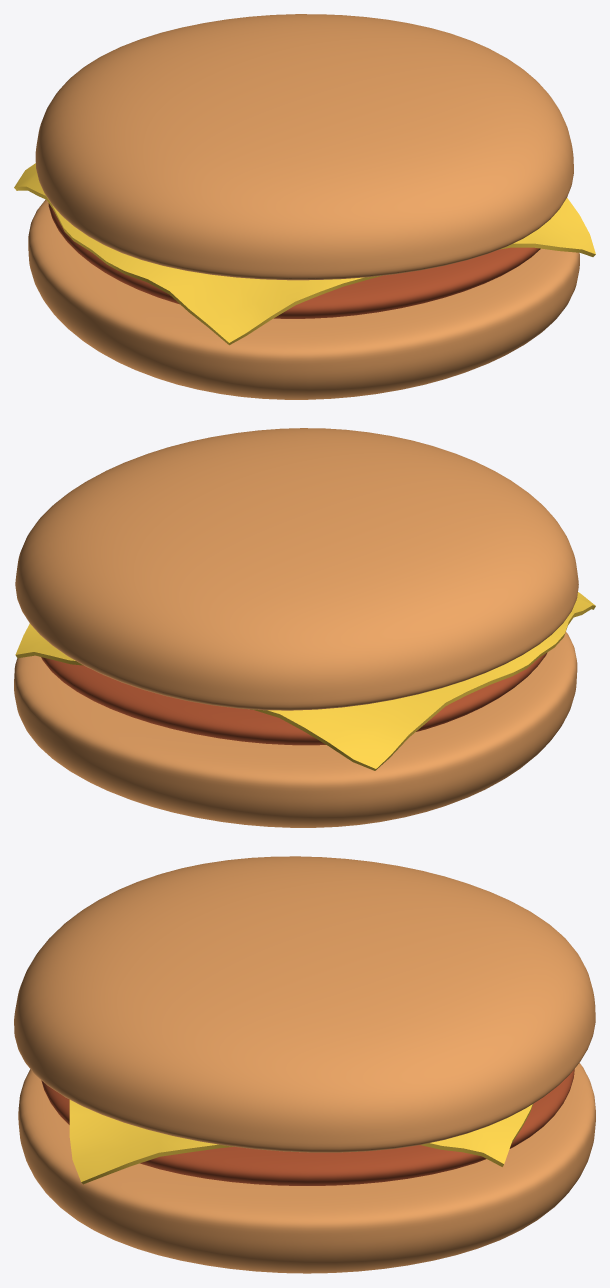
Rendered from hamburger.glb.
The picture shows the model from 3 angles, top to bottom: view 1: azimuth 30°, elevation 25°; view 2: azimuth 150°, elevation 25°; view 3: azimuth 270°, elevation 25°; orthographic projection. The views are drawn at different scales.
Visible parts, largest first — view 1: Cube.004, Cube, Plane, Cube.002; view 2: Cube.004, Cube, Plane, Cube.002; view 3: Cube.004, Cube, Cube.002, Plane.
Boxes of the visible parts, left/top/right/bottom form: Cube.004: left=35, top=14, right=573, bottom=280; Cube: left=28, top=199, right=579, bottom=399; Plane: left=14, top=163, right=595, bottom=345; Cube.002: left=48, top=203, right=540, bottom=318; Cube.004: left=15, top=428, right=578, bottom=710; Cube: left=14, top=632, right=577, bottom=827; Plane: left=15, top=592, right=595, bottom=770; Cube.002: left=41, top=652, right=547, bottom=745; Cube.004: left=14, top=856, right=595, bottom=1152; Cube: left=18, top=1063, right=595, bottom=1273; Cube.002: left=41, top=1069, right=574, bottom=1185; Plane: left=69, top=1100, right=533, bottom=1184.
Size of the model in its own units: 1.84 by 0.9105 by 1.84.
